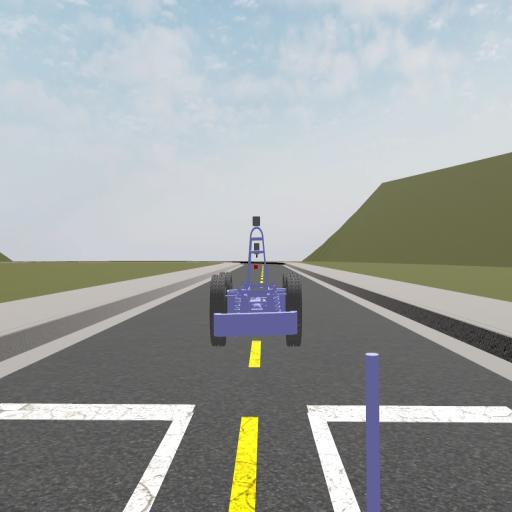ERP-42: (210, 217, 302, 347)
